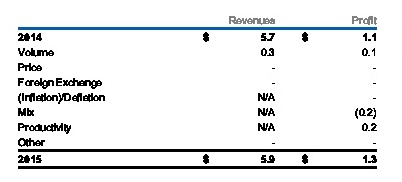table: (0, 0, 402, 182)
